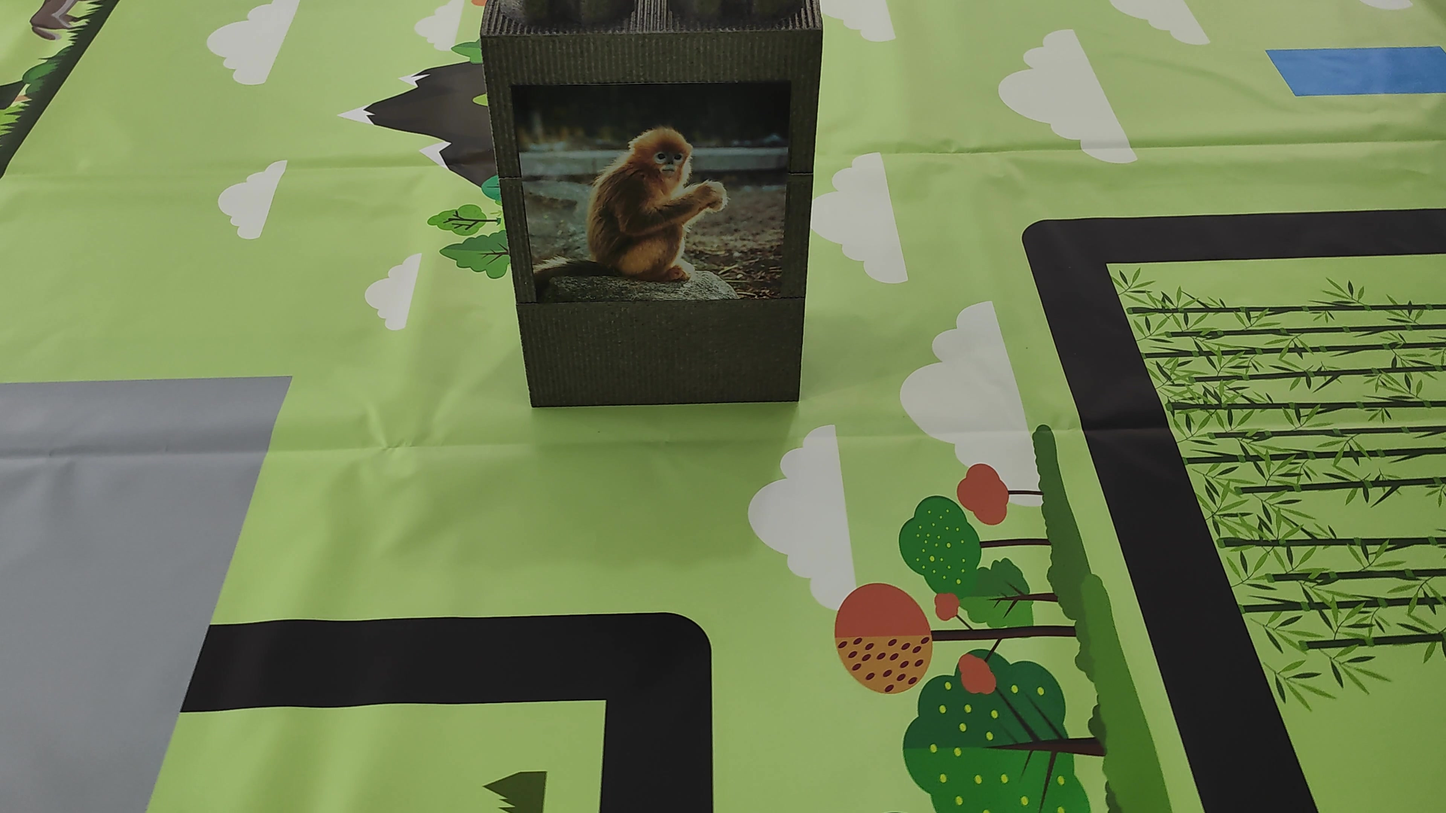monkey: (527, 96, 751, 306)
